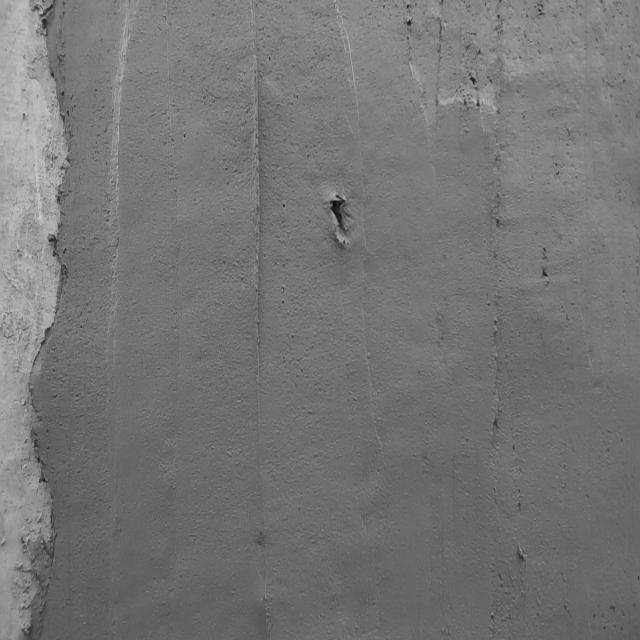trowels marks: (246, 1, 274, 639), (487, 1, 503, 640), (431, 0, 447, 143)
